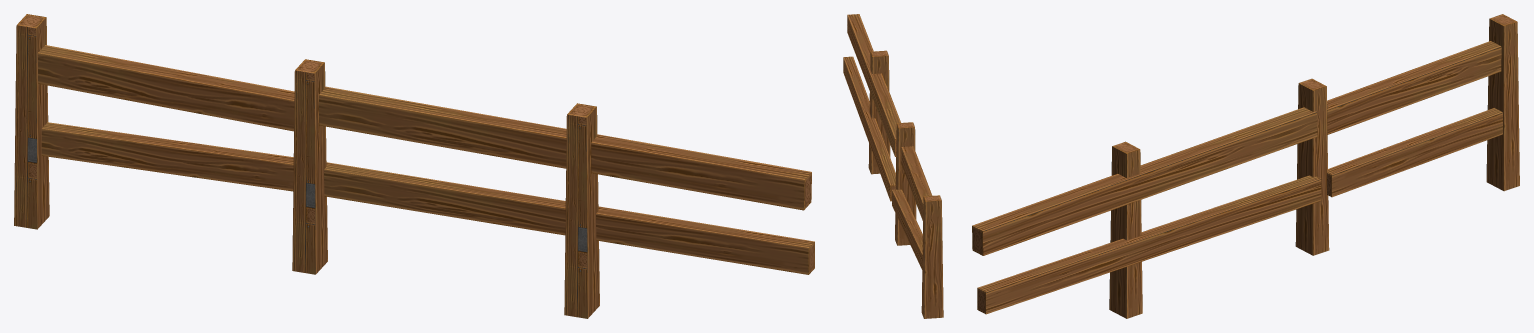
3 renders of one model, left to right at view 1: azimuth 30°, elevation 25°; view 2: azimuth 150°, elevation 25°; view 3: azimuth 270°, elevation 25°, orthographic. The views are drawn at different scales.
Visible parts, largest first — view 1: Cube.2138; view 2: Cube.2138; view 3: Cube.2138.
Boxes of the visible parts, left/top/right/bottom form: Cube.2138: left=14, top=14, right=814, bottom=318; Cube.2138: left=843, top=14, right=943, bottom=318; Cube.2138: left=972, top=14, right=1519, bottom=318.
Size of the model in its own units: 335 by 132 by 399.
1 material, 1 textured.
